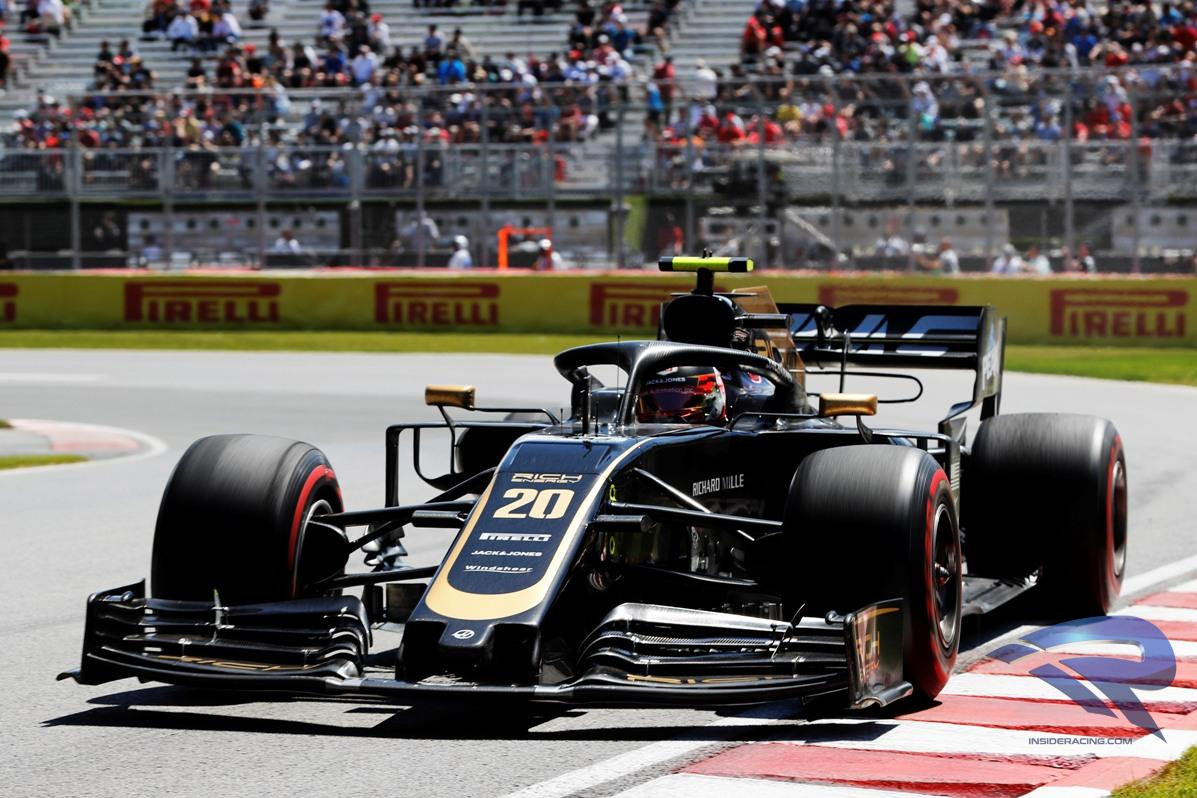f1_car: (46, 239, 1142, 761)
helmet: (621, 346, 738, 440)
